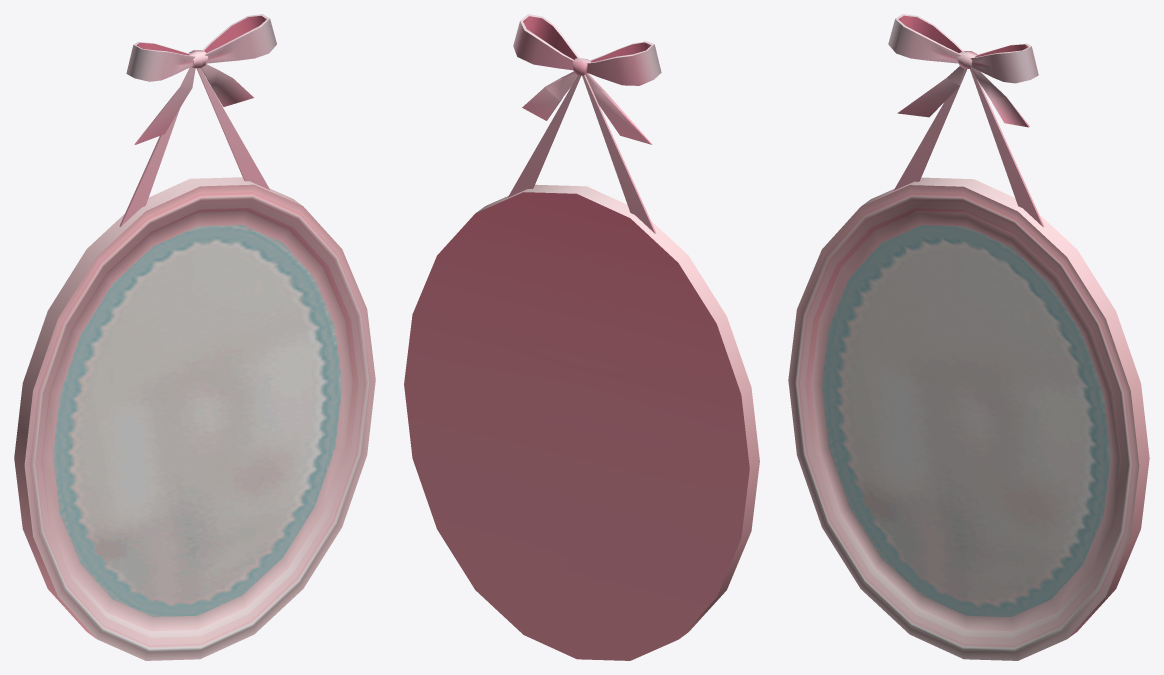
Rendered from Doll_OB_Frame_002.FBX.
3 views of the same model, side by side, from view 1: azimuth 30°, elevation 25°; view 2: azimuth 150°, elevation 25°; view 3: azimuth 330°, elevation 25° (orthographic).
Visible parts, largest first — view 1: Doll_OB_Frame_002; view 2: Doll_OB_Frame_002; view 3: Doll_OB_Frame_002.
Part boxes in pixels (left/top/right/bottom): Doll_OB_Frame_002: left=14, top=14, right=375, bottom=660; Doll_OB_Frame_002: left=404, top=14, right=759, bottom=660; Doll_OB_Frame_002: left=788, top=14, right=1149, bottom=660.
Size of the model in its own units: 34.18 by 58.52 by 3.19.
